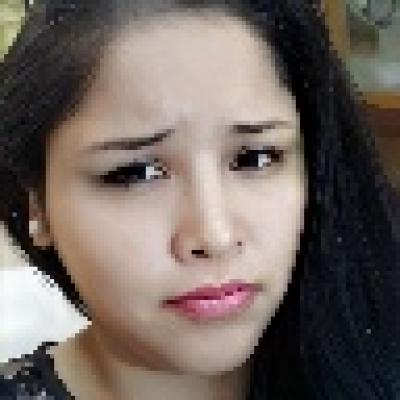sad: (43, 14, 297, 370)
